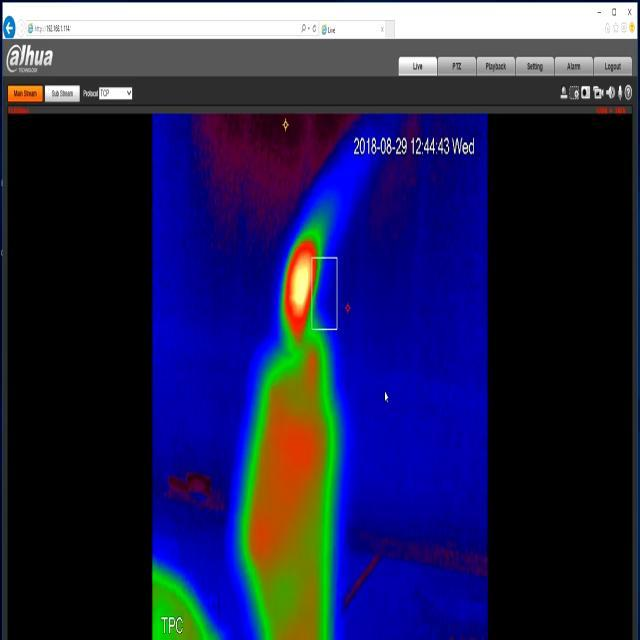fire: (280, 228, 329, 346)
